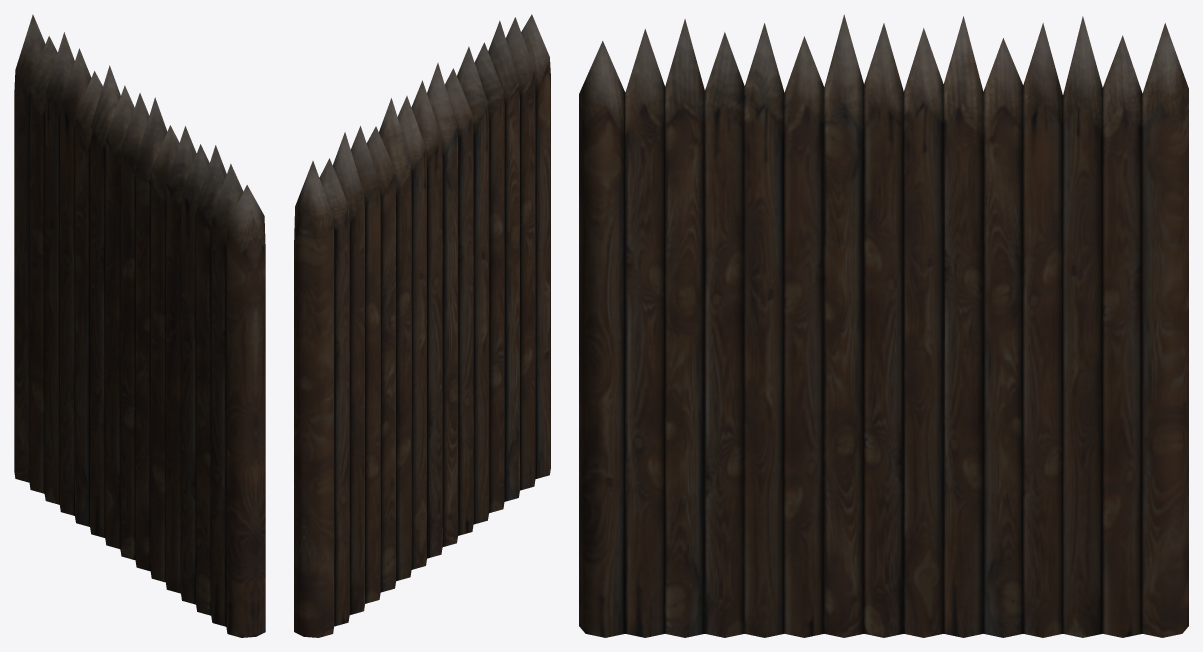
File: wall_wood.fbx
The picture shows the model from 3 angles, left to right: view 1: azimuth 30°, elevation 25°; view 2: azimuth 150°, elevation 25°; view 3: azimuth 270°, elevation 25°; orthographic projection. The views are drawn at different scales.
Parts seen in each view (by area): view 1: wall_wood; view 2: wall_wood; view 3: wall_wood.
Part boxes in pixels (x1,y1,x2,y2): wall_wood: [14, 14, 265, 637]; wall_wood: [294, 14, 550, 637]; wall_wood: [579, 14, 1188, 637].
Size of the model in its own units: 27.72 by 332 by 300.
